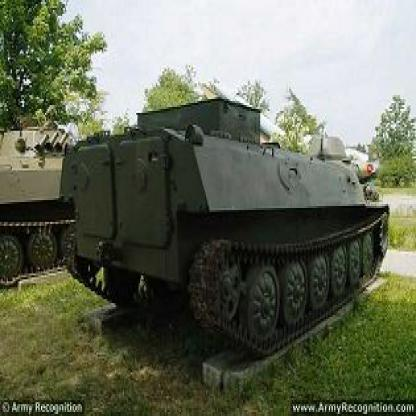MIL_IFV: (58, 99, 391, 360)
